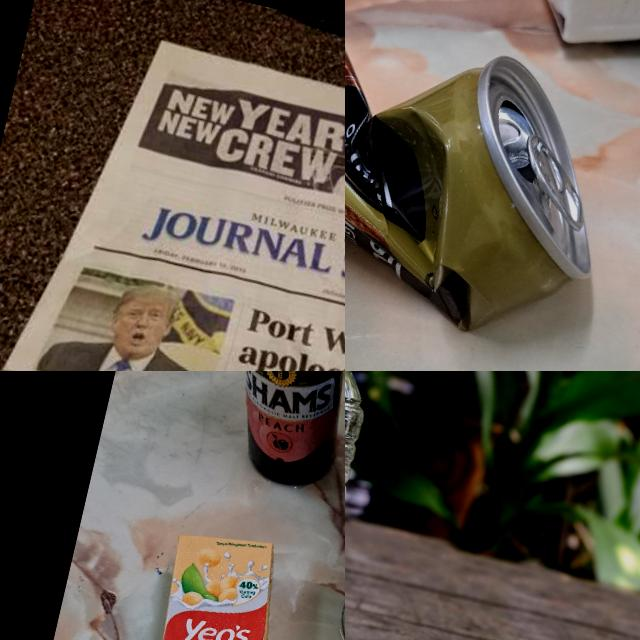aba de lata: (510, 126, 604, 222)
caixinha: (119, 525, 304, 640)
garrafa de vidro: (191, 371, 345, 504)
lata: (345, 0, 640, 358)
papel: (3, 21, 345, 371)
